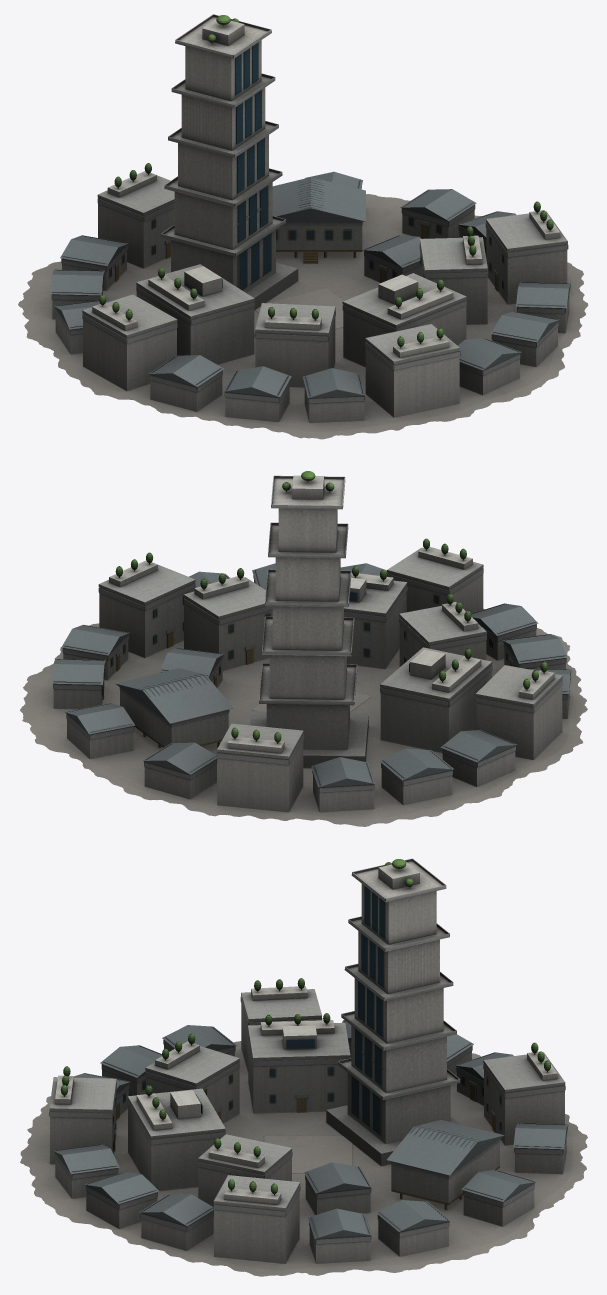
Rendered from modern-town-big-a-monsoon.glb.
3 views of the same model, one above another, from view 1: azimuth 30°, elevation 25°; view 2: azimuth 150°, elevation 25°; view 3: azimuth 270°, elevation 25° (orthographic).
Visible parts, largest first — view 1: LOD0; view 2: LOD0; view 3: LOD0.
Part boxes in pixels (x1=…): LOD0: x1=18, y1=14, x2=588, y2=439; LOD0: x1=20, y1=471, x2=587, y2=826; LOD0: x1=20, y1=858, x2=587, y2=1276.
Size of what is drawn, in the model's own units: 7.96 by 4.16 by 7.89.
3 materials, 3 textured.
